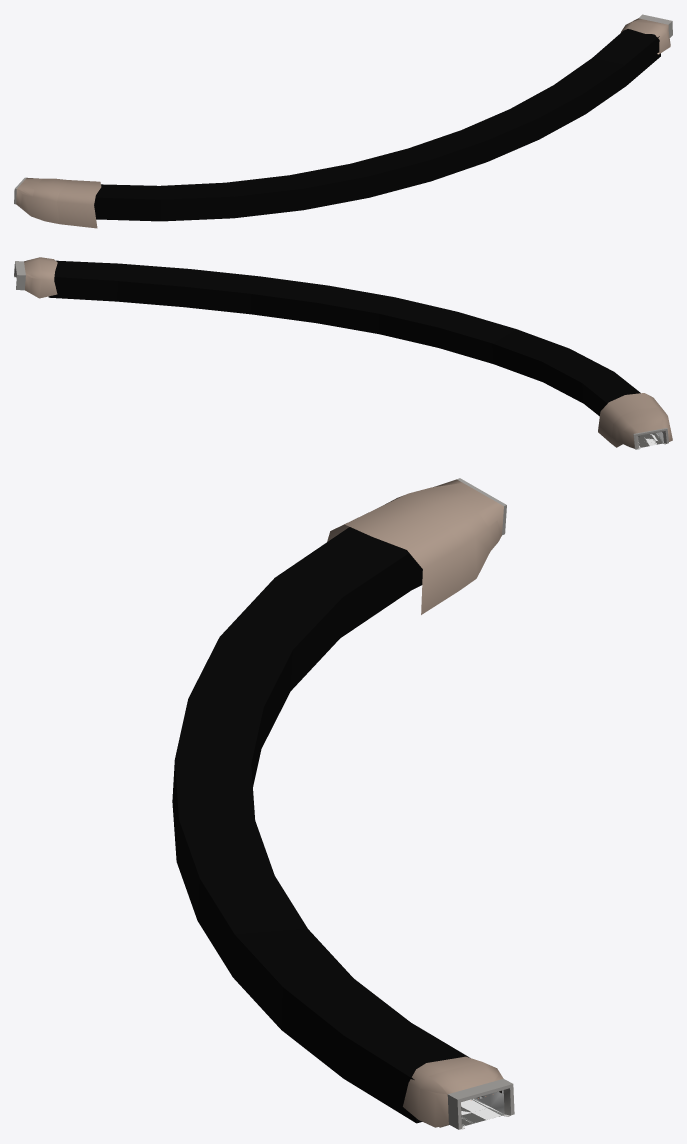
Rendered from tunnel_S.dae.
3 renders of one model, top to bottom at view 1: azimuth 30°, elevation 25°; view 2: azimuth 150°, elevation 25°; view 3: azimuth 270°, elevation 25°, orthographic. The views are drawn at different scales.
Visible parts, largest first — view 1: tunnel_S_a1000, tunnel_S_a2000; view 2: tunnel_S_a1000, tunnel_S_a2000; view 3: tunnel_S_a1000, tunnel_S_a2000.
Boxes of the visible parts, box(x1,y1,x2,y2) form: tunnel_S_a1000: box(14, 14, 672, 228); tunnel_S_a2000: box(16, 19, 670, 223); tunnel_S_a1000: box(14, 257, 672, 449); tunnel_S_a2000: box(15, 257, 672, 449); tunnel_S_a1000: box(172, 478, 514, 1129); tunnel_S_a2000: box(381, 486, 510, 1129).
Size of the model in its own units: 347 by 78.59 by 21.16.
